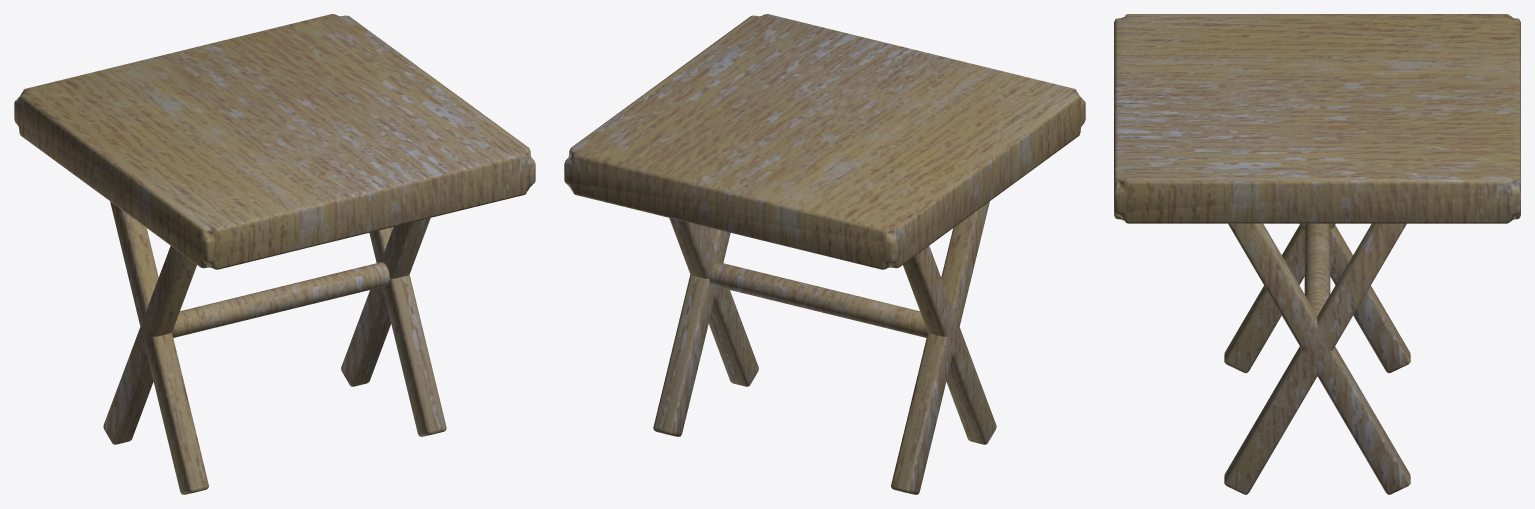
File: Antique_Chair_05.fbx
3 renders of one model, left to right at view 1: azimuth 30°, elevation 25°; view 2: azimuth 150°, elevation 25°; view 3: azimuth 270°, elevation 25°, orthographic. The views are drawn at different scales.
Visible parts, largest first — view 1: Antique_Chair; view 2: Antique_Chair; view 3: Antique_Chair.
Part boxes in pixels (x1=…): Antique_Chair: x1=14, y1=14, x2=535, y2=494; Antique_Chair: x1=564, y1=14, x2=1085, y2=494; Antique_Chair: x1=1114, y1=14, x2=1520, y2=494.
Bounding box in the file's own units: 0.58 × 0.5337 × 0.59.
1 material, 1 textured.
